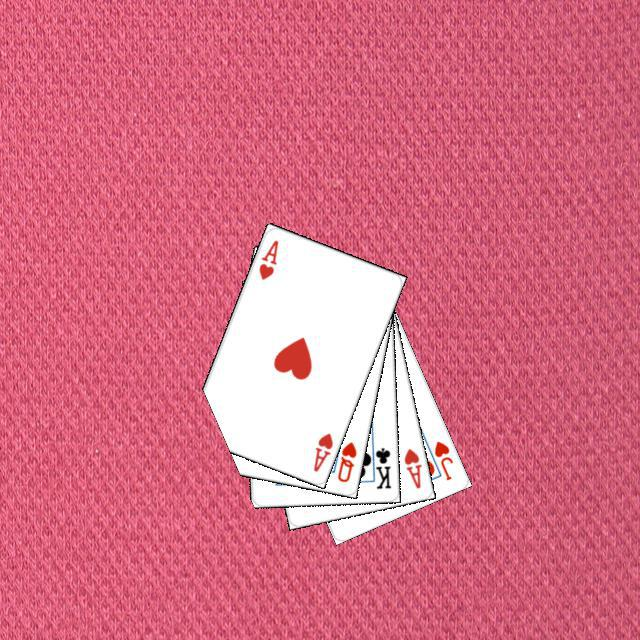Ah: (308, 428, 335, 473), (254, 235, 280, 281), (399, 443, 423, 490)
Jh: (429, 436, 454, 482)
Kc: (366, 438, 393, 491)
Qh: (333, 437, 358, 484)
